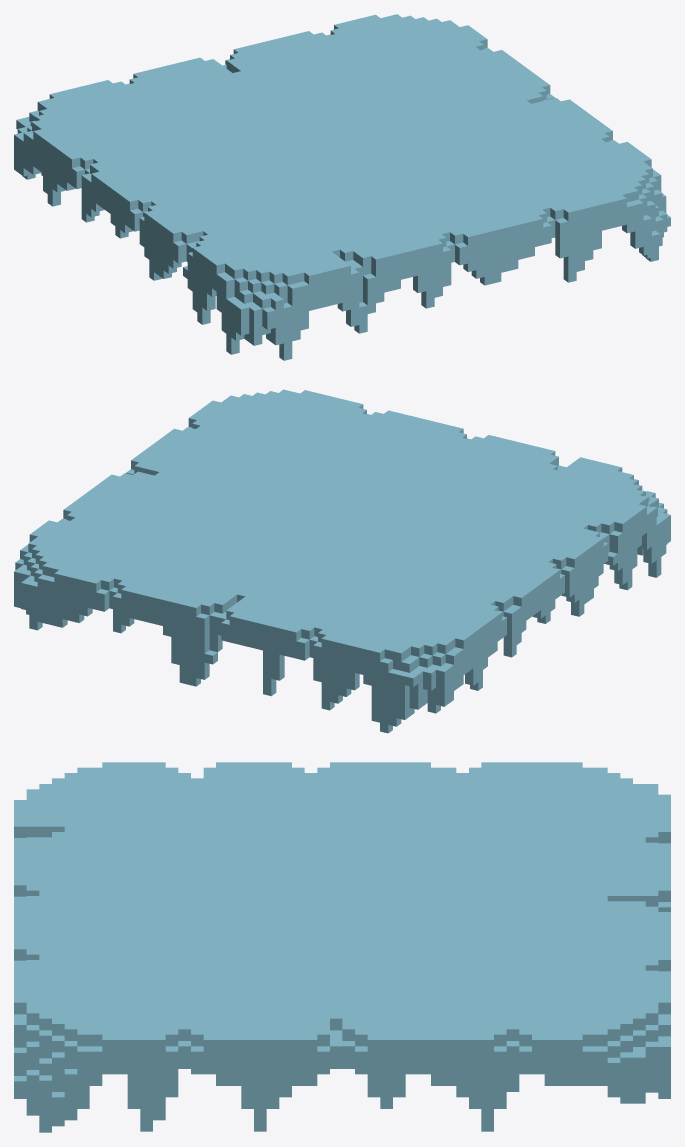
The model's file is ice-1.obj.
The picture shows the model from 3 angles, top to bottom: view 1: azimuth 30°, elevation 25°; view 2: azimuth 150°, elevation 25°; view 3: azimuth 270°, elevation 25°; orthographic projection. The views are drawn at different scales.
Size of the model in its own units: 5.2 by 0.9 by 5.2.
Materials: 1 (1 with a texture image).
